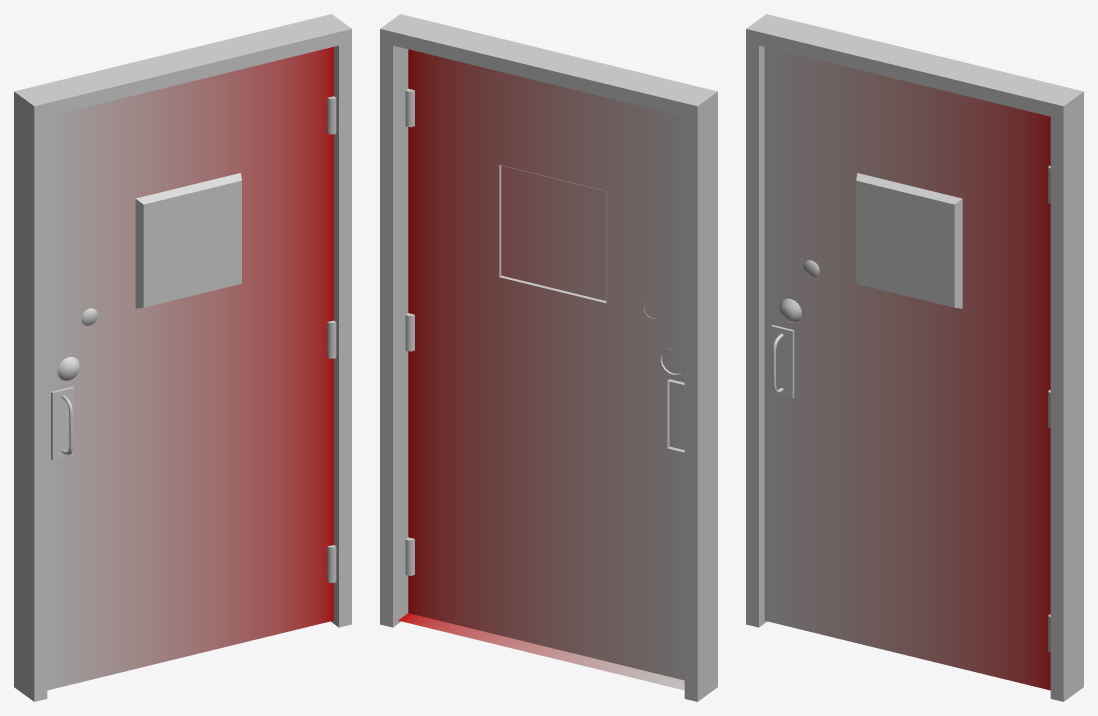
File: SM_Door_02.FBX
The picture shows the model from 3 angles, left to right: view 1: azimuth 30°, elevation 25°; view 2: azimuth 150°, elevation 25°; view 3: azimuth 330°, elevation 25°; orthographic projection.
Parts seen in each view (by area): view 1: SM_Door_02; view 2: SM_Door_02; view 3: SM_Door_02.
Boxes of the visible parts, left/top/right/bottom form: SM_Door_02: left=14, top=14, right=351, bottom=701; SM_Door_02: left=380, top=14, right=717, bottom=701; SM_Door_02: left=746, top=14, right=1083, bottom=701.
Size of what is drawn, in the model's own units: 126 by 17.57 by 226.
